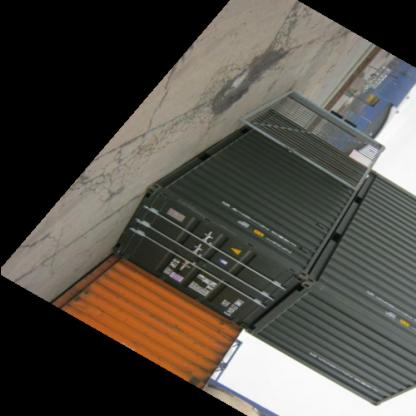Damage: (175, 198, 243, 228), (199, 310, 245, 340)
